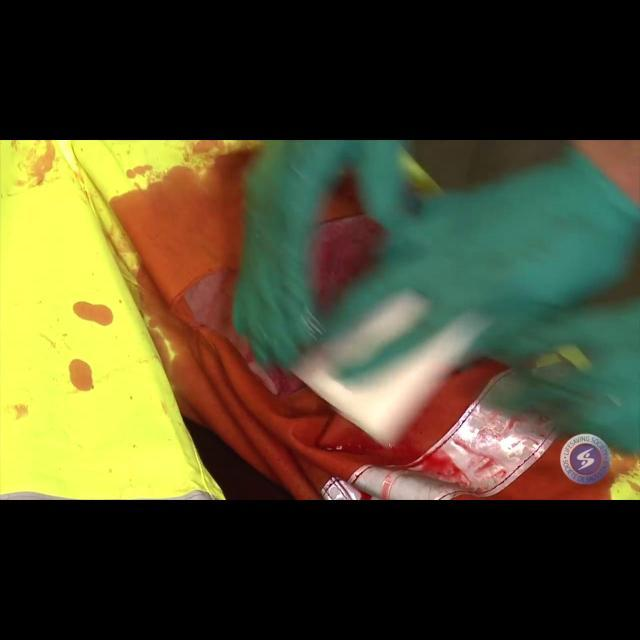blood: (69, 149, 640, 500), (68, 290, 134, 426), (314, 179, 381, 299)
